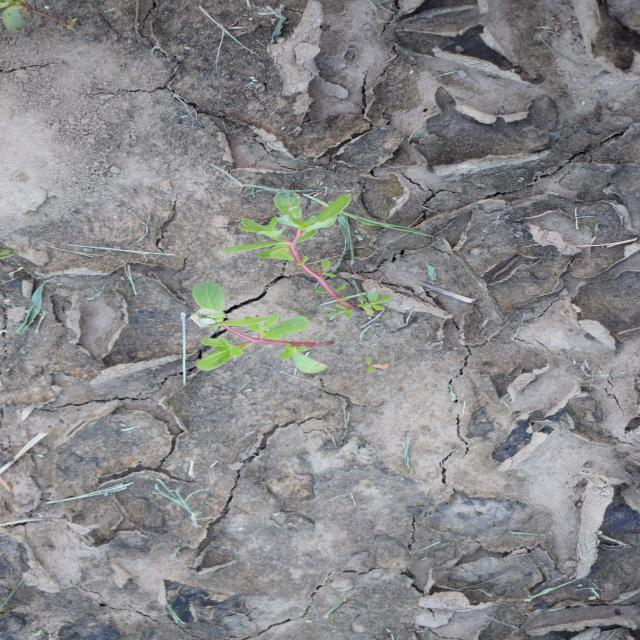Purslane: (219, 190, 395, 319), (191, 281, 336, 375)
